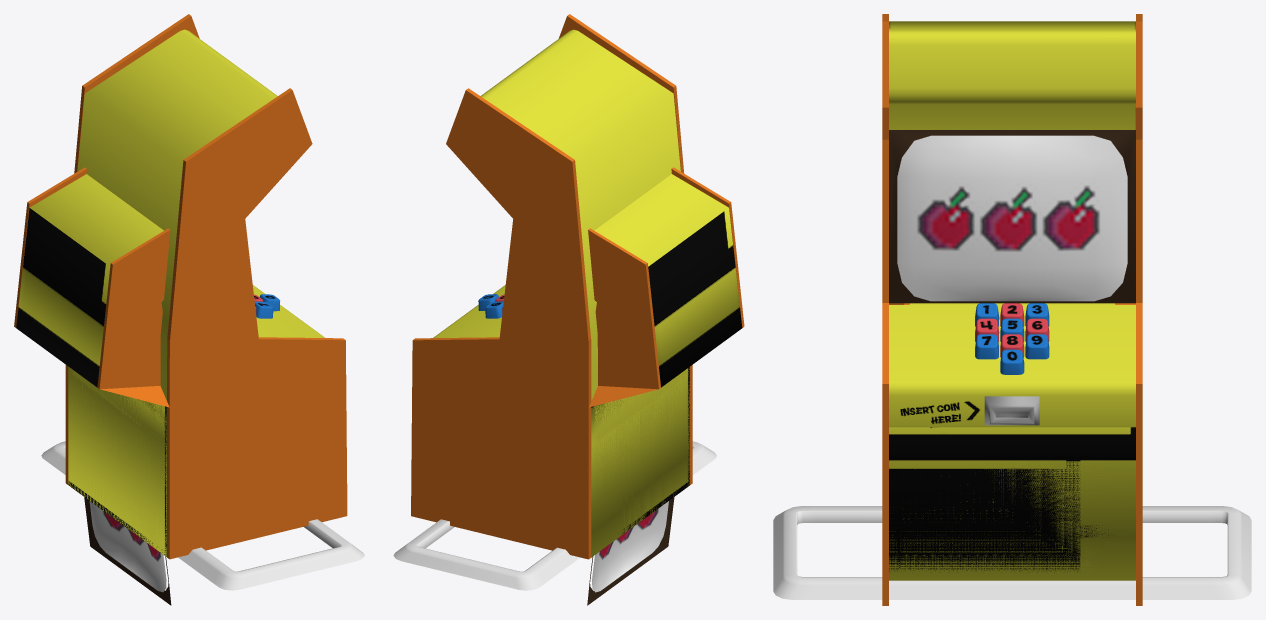
Rendered from Arcade Machine 7.glb.
3 renders of one model, left to right at view 1: azimuth 30°, elevation 25°; view 2: azimuth 150°, elevation 25°; view 3: azimuth 270°, elevation 25°, orthographic. The views are drawn at different scales.
Visible parts, largest first — view 1: Frame.001, Frame, Body, Body.001, Clue Frame, Screen, Screen Frame; view 2: Frame.001, Body.001, Body, Frame, Clue Frame, Screen, Screen Frame; view 3: Body.001, Screen.001, Body, Clue Frame, Frame.001, Screen Frame.001, Body.002.
Part boxes in pixels (bbox=[...]): Frame.001: bbox=[65, 14, 347, 558]; Frame: bbox=[14, 167, 347, 559]; Body: bbox=[16, 174, 166, 556]; Body.001: bbox=[68, 29, 324, 556]; Clue Frame: bbox=[41, 441, 364, 590]; Screen: bbox=[89, 501, 166, 592]; Screen Frame: bbox=[84, 497, 171, 605]; Frame.001: bbox=[411, 14, 692, 559]; Body.001: bbox=[433, 29, 689, 557]; Body: bbox=[591, 174, 742, 533]; Frame: bbox=[411, 167, 744, 540]; Clue Frame: bbox=[393, 441, 716, 590]; Screen: bbox=[592, 501, 668, 592]; Screen Frame: bbox=[587, 497, 674, 605]; Body.001: bbox=[889, 21, 1135, 580]; Screen.001: bbox=[897, 135, 1127, 301]; Body: bbox=[889, 303, 1135, 572]; Clue Frame: bbox=[773, 506, 1251, 599]; Frame.001: bbox=[882, 14, 1142, 605]; Screen Frame.001: bbox=[889, 130, 1135, 303]; Body.002: bbox=[984, 396, 1039, 425].
Size of the model in its own units: 1.57 by 3.11 by 2.16.
Materials: 16 (12 with a texture image).
